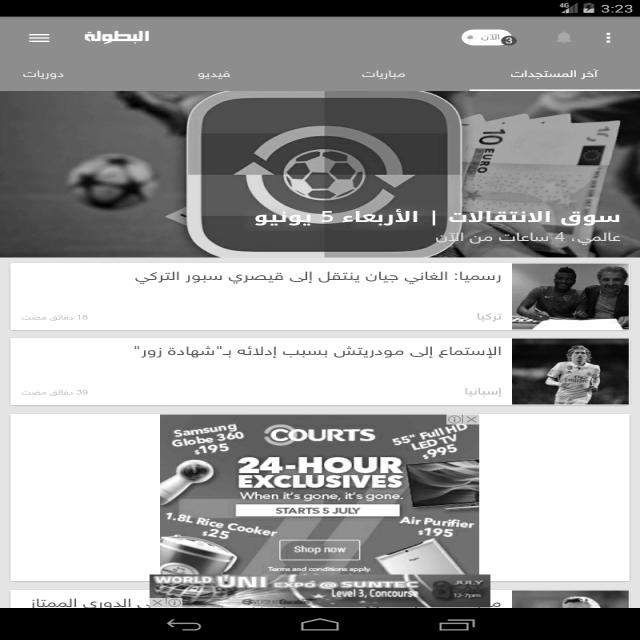ImageButton: (18, 25, 58, 47), (552, 28, 582, 48), (595, 27, 622, 45)
ImageView: (24, 89, 603, 207), (159, 414, 487, 606), (510, 262, 628, 328), (512, 335, 622, 401), (453, 25, 528, 51)
TextView: (133, 342, 501, 361), (244, 211, 626, 229), (126, 269, 502, 287), (506, 64, 606, 82), (81, 28, 158, 43), (359, 64, 413, 82), (15, 66, 73, 82)
